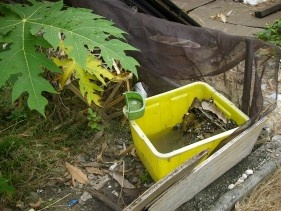box: (121, 79, 250, 183)
